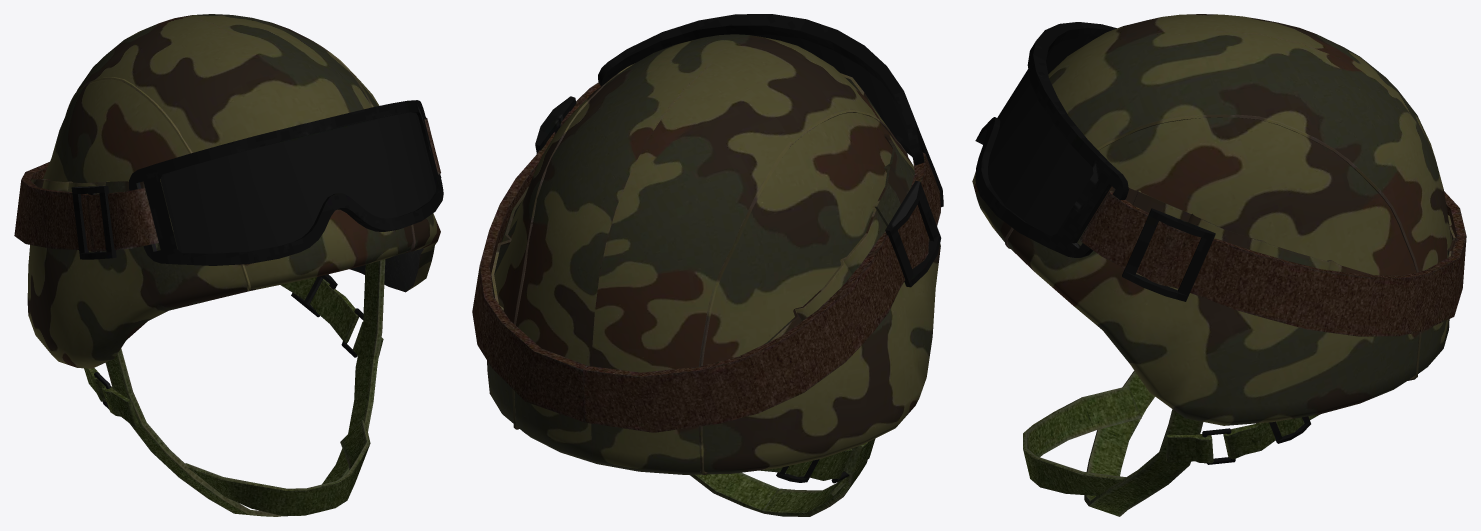
The model's file is army.glb.
The picture shows the model from 3 angles, left to right: view 1: azimuth 30°, elevation 25°; view 2: azimuth 150°, elevation 25°; view 3: azimuth 270°, elevation 25°; orthographic projection. The views are drawn at different scales.
Visible parts, largest first — view 1: Sphere.001_Material.007_0, Sphere_Material.008_0; view 2: Sphere.001_Material.007_0, Sphere_Material.008_0; view 3: Sphere.001_Material.007_0, Sphere_Material.008_0.
Part boxes in pixels (bbox=[...]): Sphere.001_Material.007_0: bbox=[27, 14, 440, 368]; Sphere_Material.008_0: bbox=[14, 100, 443, 516]; Sphere.001_Material.007_0: bbox=[487, 34, 940, 475]; Sphere_Material.008_0: bbox=[472, 14, 943, 516]; Sphere.001_Material.007_0: bbox=[972, 14, 1455, 425]; Sphere_Material.008_0: bbox=[975, 22, 1466, 516].
Bounding box in the file's own units: 0.2409 × 0.2913 × 0.2753.
Materials: 2 (2 with a texture image).
